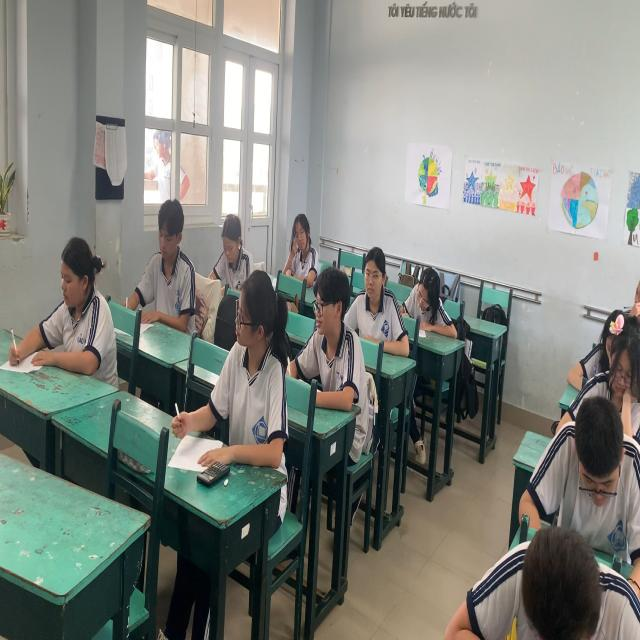cheating: (215, 267, 287, 479)
not_cheating: (480, 524, 634, 640), (39, 227, 115, 383), (555, 384, 637, 524), (295, 262, 364, 404), (142, 194, 196, 344), (345, 241, 408, 359), (402, 254, 457, 354), (596, 302, 640, 401), (286, 206, 321, 286), (218, 203, 250, 280)
